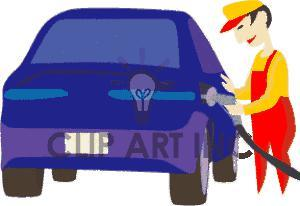car: (1, 5, 244, 205)
person: (217, 1, 297, 196)
